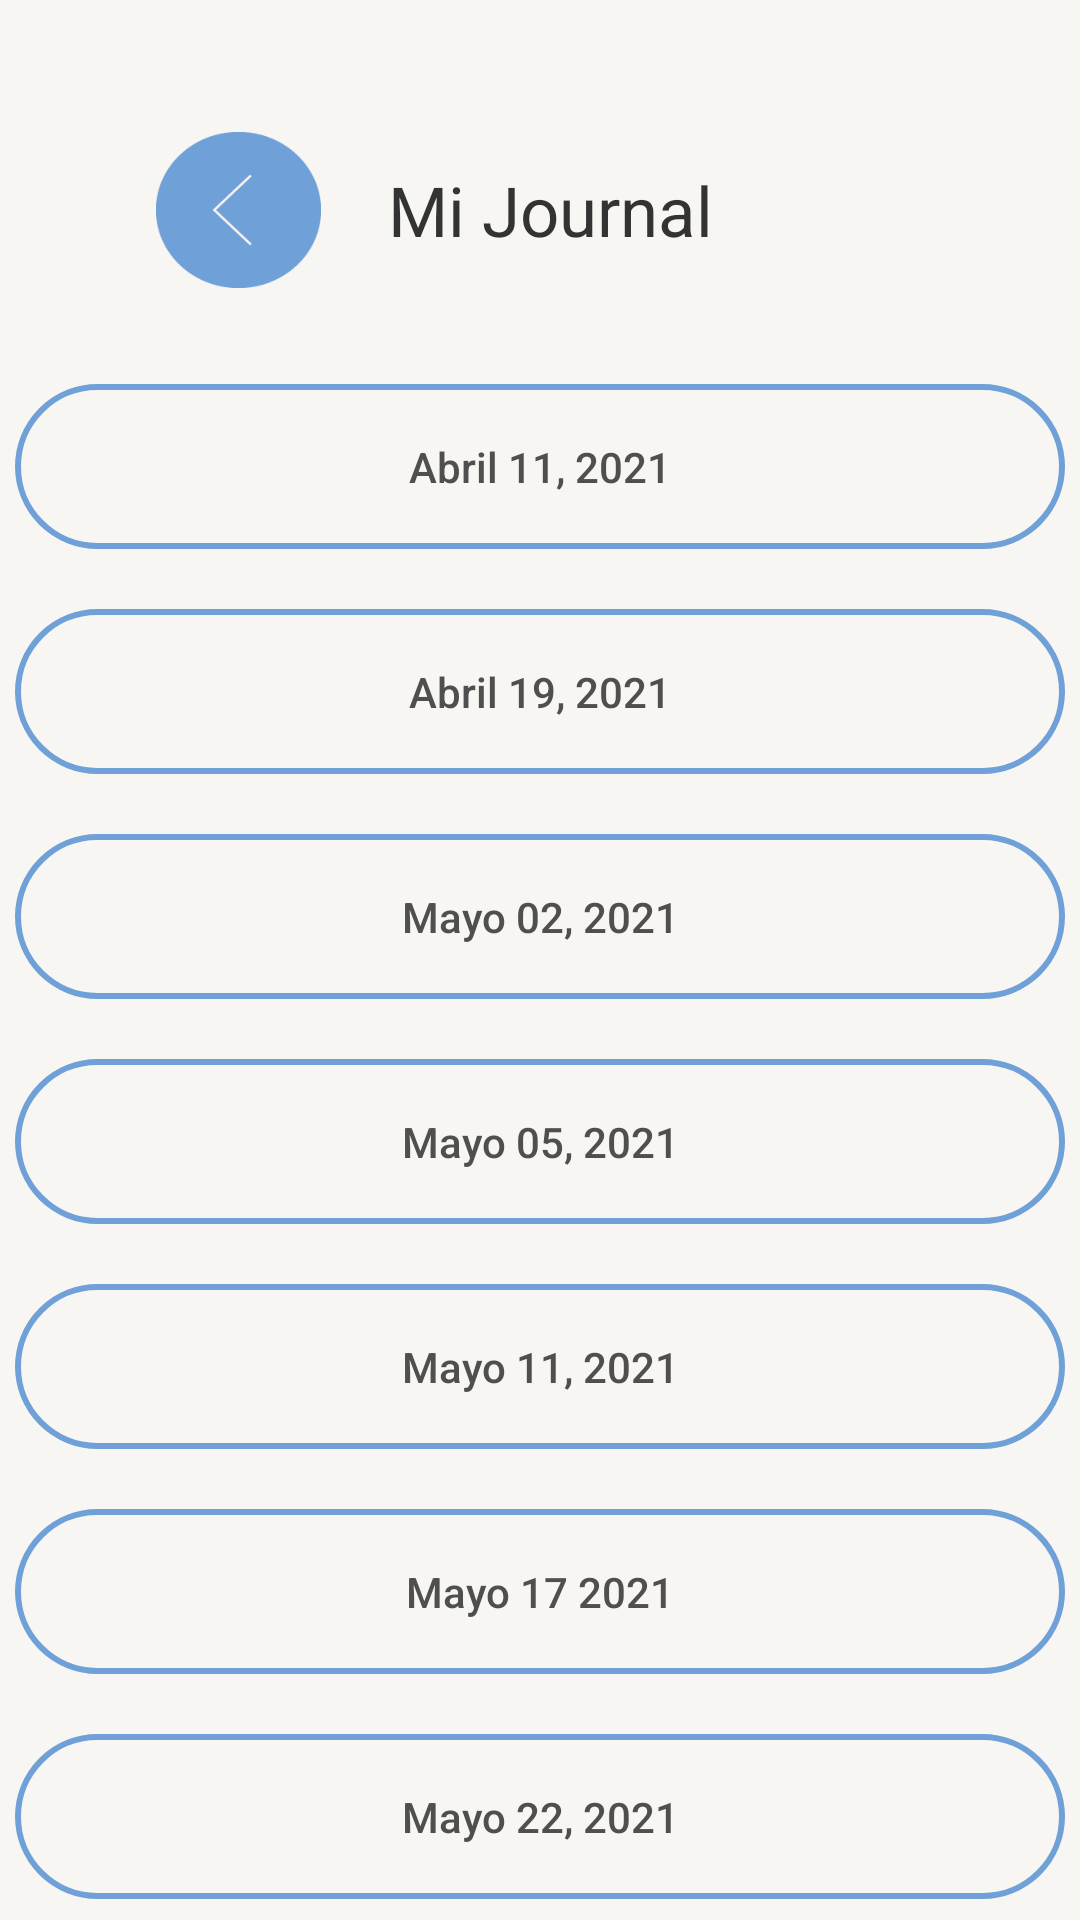

Icon bounding boxes for this 1080px×1920px phone screenshot, format (x1, y1, x2, y2):
regresar xxxdpi: (156, 132, 321, 288)
